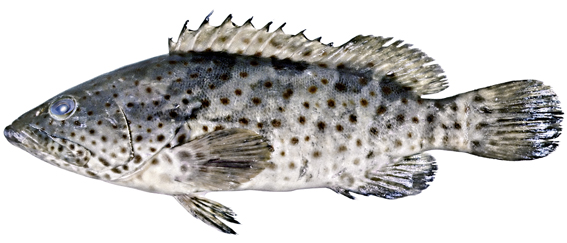fish: (4, 11, 564, 236)
